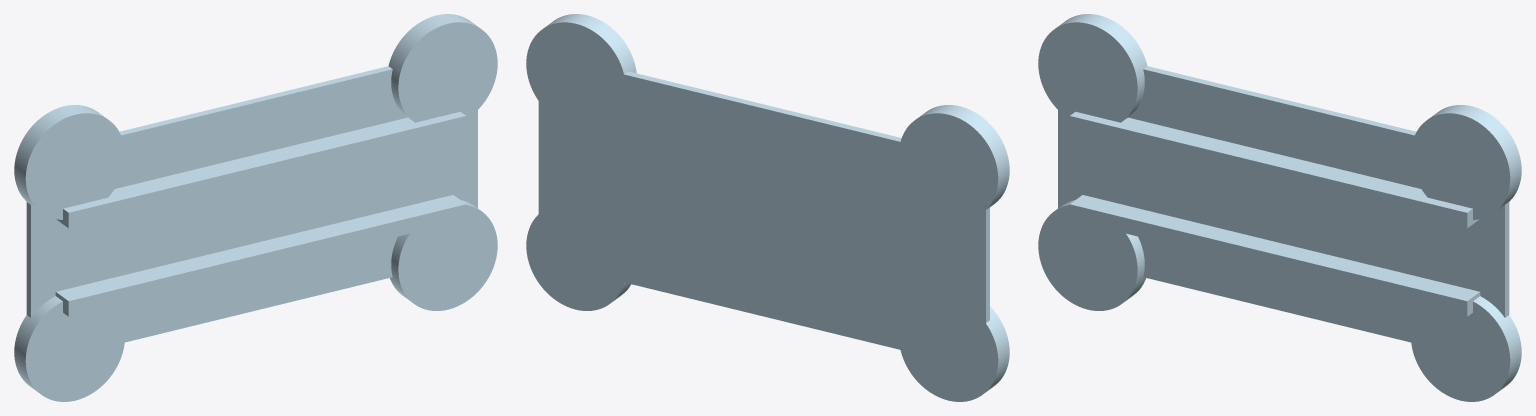
3 renders of one model, left to right at view 1: azimuth 30°, elevation 25°; view 2: azimuth 150°, elevation 25°; view 3: azimuth 330°, elevation 25°, orthographic.
Visible parts, largest first — view 1: Part 1; view 2: Part 1; view 3: Part 1.
Boxes of the visible parts, x1,y1,x2,y2 form: Part 1: [14, 14, 497, 401]; Part 1: [526, 14, 1009, 401]; Part 1: [1038, 14, 1521, 401].
Bounding box in the file's own units: 0.19 × 0.11 × 0.012.
